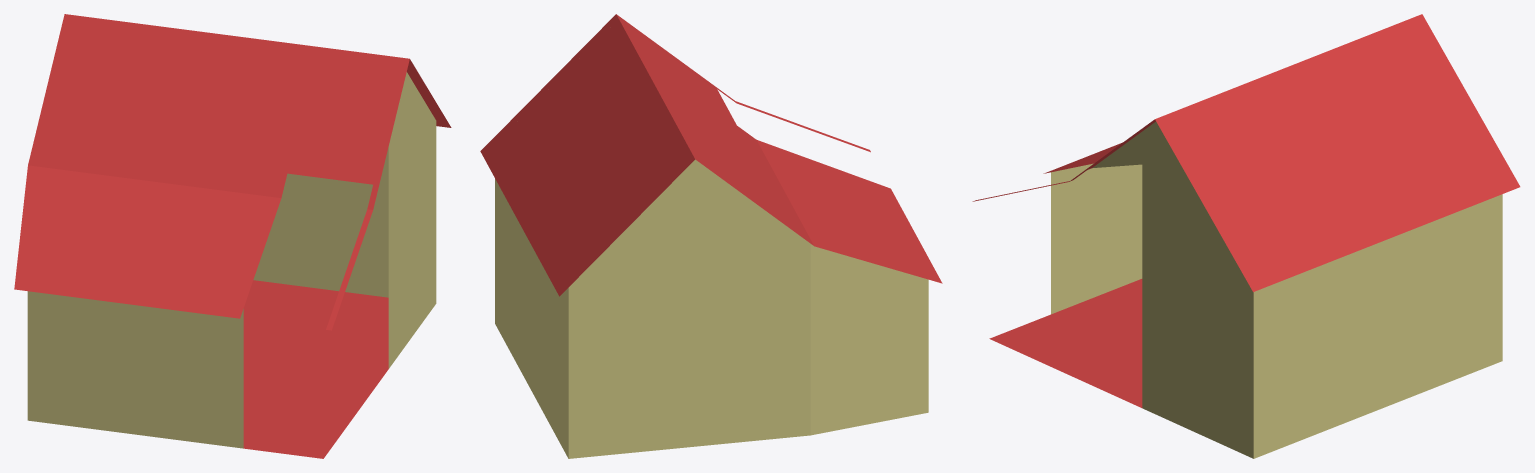
3 views of the same model, side by side, from view 1: azimuth 30°, elevation 25°; view 2: azimuth 150°, elevation 25°; view 3: azimuth 270°, elevation 25° (orthographic). The views are drawn at different scales.
Size of the model in its own units: 21.17 by 21.87 by 13.3.
